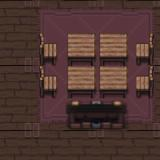Hide: (64, 99, 130, 133)
Obstacle: (31, 29, 67, 66), (31, 65, 67, 100), (97, 30, 130, 66), (66, 30, 97, 66), (130, 30, 160, 66), (98, 65, 129, 99), (129, 66, 160, 99), (67, 65, 97, 99)
